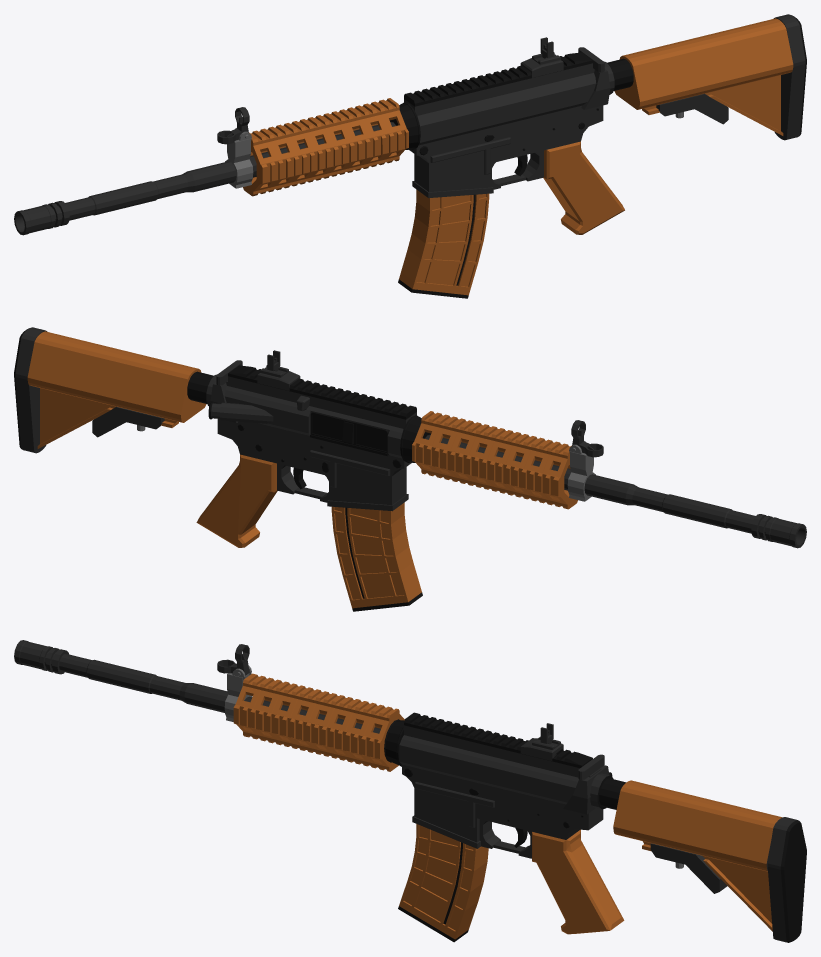
3 views of the same model, one above another, from view 1: azimuth 30°, elevation 25°; view 2: azimuth 150°, elevation 25°; view 3: azimuth 330°, elevation 25° (orthographic).
Parts seen in each view (by area): view 1: Box001, Box002, Box003, Box004, Cylinder015, Cylinder017; view 2: Box001, Box002, Box003, Box004, Cylinder015, Cylinder017; view 3: Box001, Box002, Box003, Box004, Cylinder015, Cylinder017.
Part boxes in pixels (x1,y1,x2,y2): Box001: [51, 47, 633, 234]; Box002: [614, 14, 806, 140]; Box003: [398, 189, 489, 298]; Box004: [225, 37, 563, 188]; Cylinder015: [14, 201, 69, 235]; Cylinder017: [217, 128, 252, 188]; Box001: [187, 360, 769, 547]; Box002: [14, 327, 206, 453]; Box003: [331, 502, 422, 611]; Box004: [257, 350, 595, 501]; Cylinder015: [751, 514, 806, 548]; Cylinder017: [569, 441, 603, 499]; Box001: [44, 650, 626, 934]; Box002: [613, 780, 806, 942]; Box003: [398, 824, 488, 942]; Box004: [224, 644, 563, 760]; Cylinder015: [14, 640, 69, 674]; Cylinder017: [217, 659, 252, 721].
Bounding box in the file's own units: 97.98 × 28.85 × 7.75.
